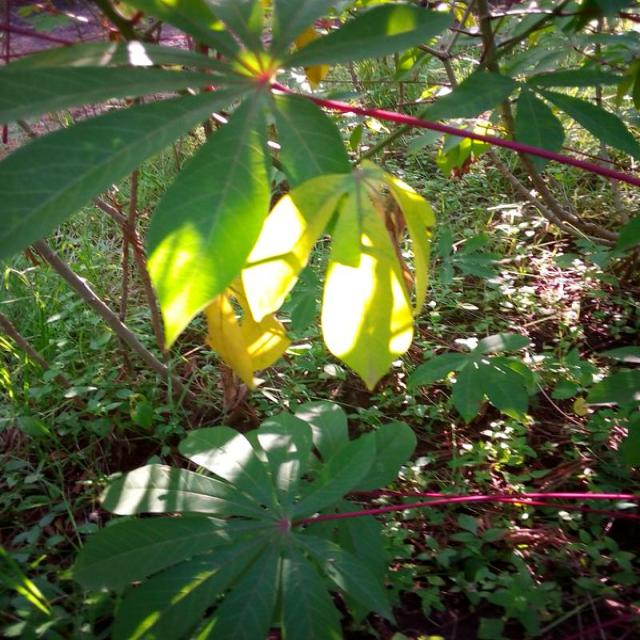cassava leaf: (72, 400, 418, 638), (242, 159, 436, 390), (145, 86, 273, 352)
